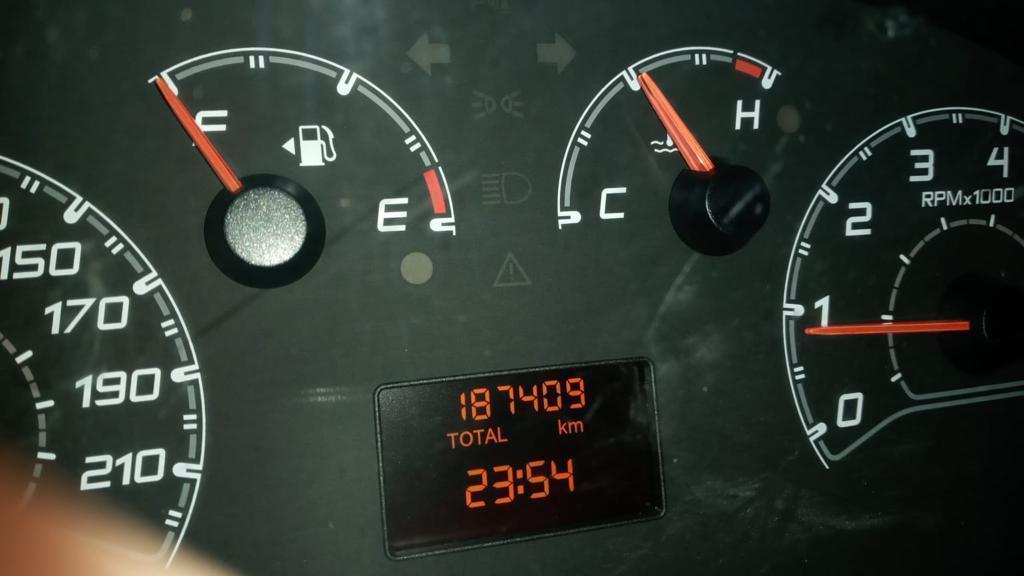0: (541, 379, 563, 412)
1: (456, 388, 468, 422)
2: (464, 467, 489, 509)
3: (491, 463, 515, 505)
4: (549, 458, 577, 493), (517, 383, 541, 412)
5: (525, 458, 549, 500)
7: (495, 383, 516, 416)
8: (469, 386, 492, 421)
9: (565, 376, 586, 410)
X: (515, 466, 525, 496), (458, 429, 473, 447), (484, 426, 497, 445), (445, 431, 458, 449), (472, 427, 484, 446), (569, 419, 584, 434), (496, 426, 509, 443), (556, 417, 568, 435)
odometer: (370, 353, 669, 562)
